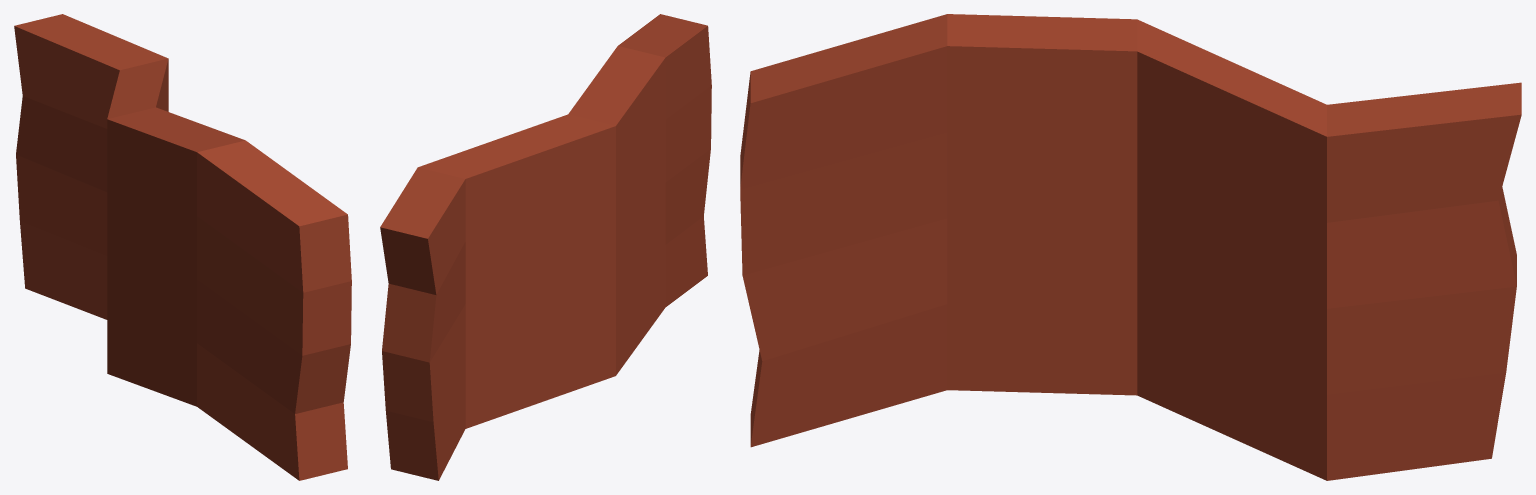
The model's file is Bacon.fbx.
The picture shows the model from 3 angles, left to right: view 1: azimuth 30°, elevation 25°; view 2: azimuth 150°, elevation 25°; view 3: azimuth 270°, elevation 25°; orthographic projection. The views are drawn at different scales.
Visible parts, largest first — view 1: Cube; view 2: Cube; view 3: Cube.
Part boxes in pixels (x1=…): Cube: x1=14, y1=14, x2=351, y2=480; Cube: x1=380, y1=14, x2=711, y2=480; Cube: x1=740, y1=14, x2=1521, y2=480.
Bounding box in the file's own units: 0.5408 × 1.14 × 2.06.
